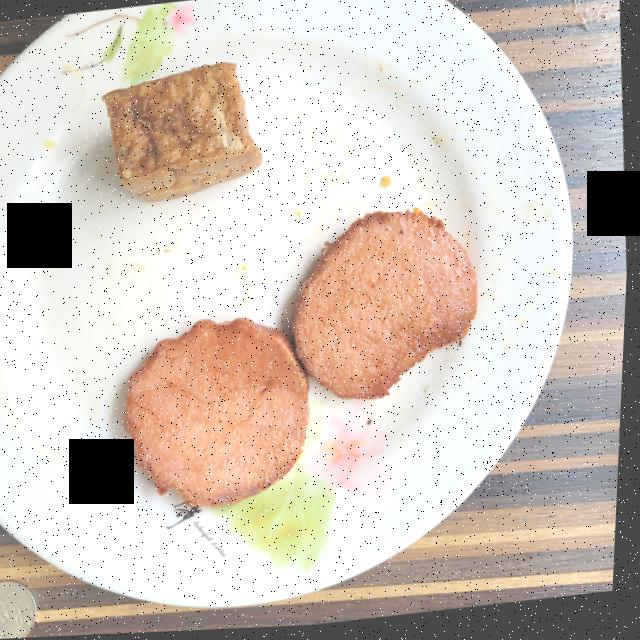Spam: (125, 213, 479, 508)
coin: (0, 581, 41, 639)
egg tofu: (102, 64, 262, 203)
